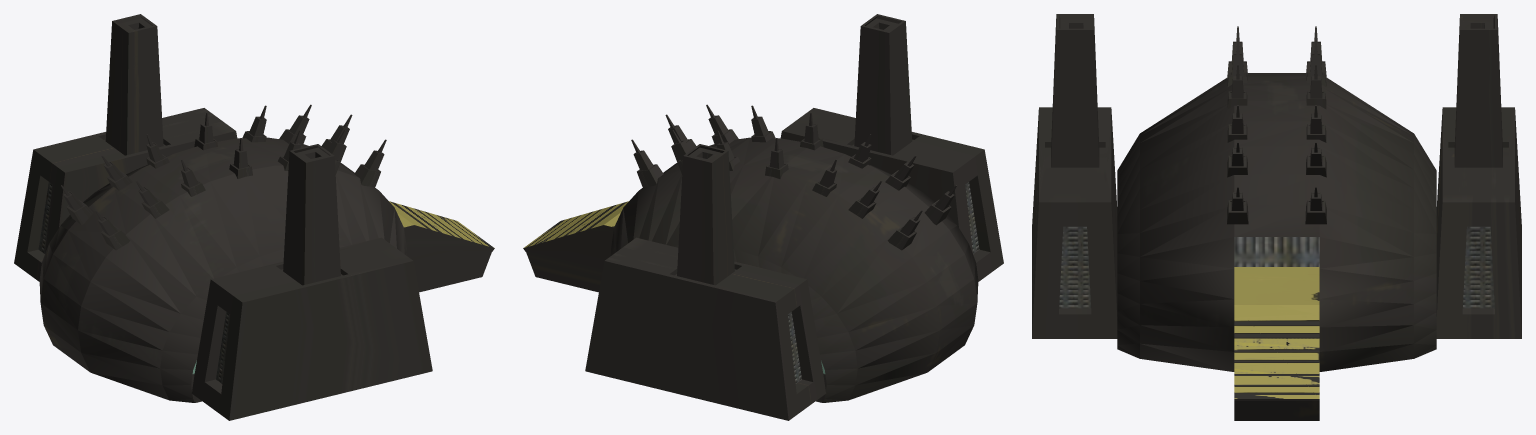
Rendered from sha_farm.dae.
The picture shows the model from 3 angles, left to right: view 1: azimuth 30°, elevation 25°; view 2: azimuth 150°, elevation 25°; view 3: azimuth 270°, elevation 25°; orthographic projection. The views are drawn at different scales.
Visible parts, largest first — view 1: sha_sformador; view 2: sha_sformador; view 3: sha_sformador.
Part boxes in pixels (x1,y1,x2,y2): sha_sformador: (14, 14, 494, 420); sha_sformador: (523, 14, 1003, 420); sha_sformador: (1032, 14, 1521, 420).
Bounding box in the file's own units: 26.2 × 23.42 × 14.41.
